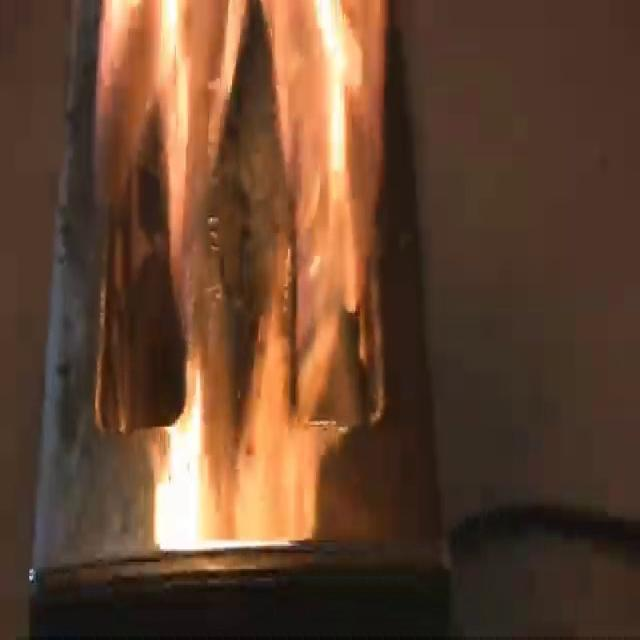fire: (98, 0, 386, 562)
